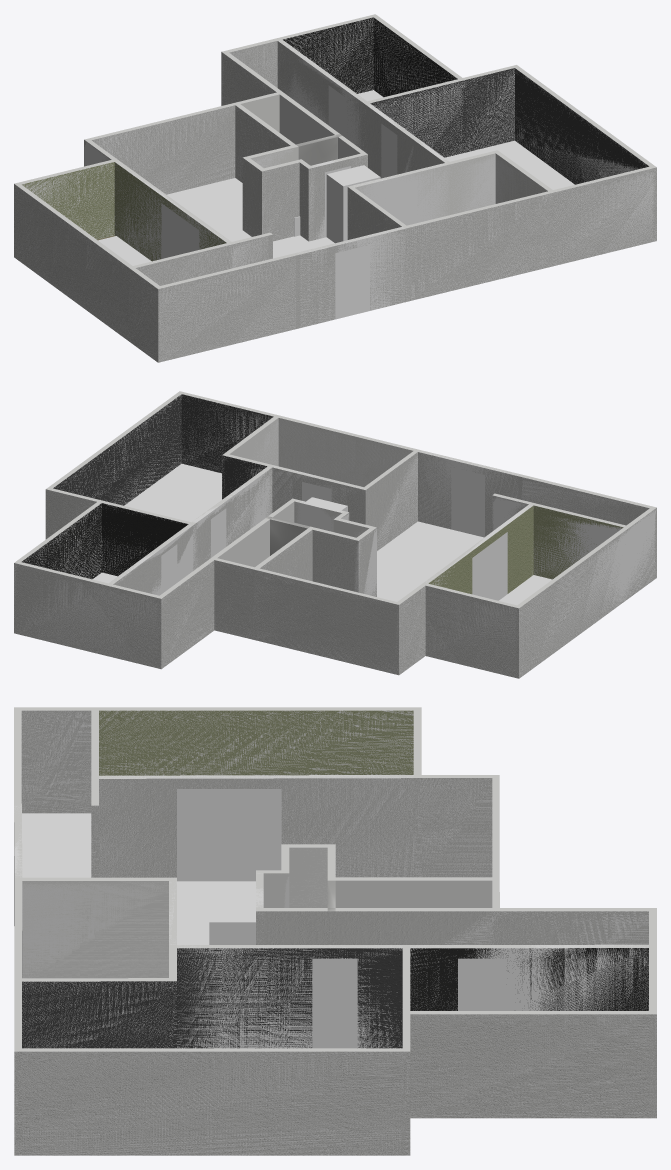
The model's file is House.v02.fbx.
3 views of the same model, one above another, from view 1: azimuth 30°, elevation 25°; view 2: azimuth 150°, elevation 25°; view 3: azimuth 270°, elevation 25° (orthographic). The views are drawn at different scales.
Parts seen in each view (by area): view 1: Plane.001, Outside, Living Room Walls, Garage Walls, Rest of walls, Kitchen walls, Office Walls, Cube.001, Bathroom walls, Cube.005, Closet walls; view 2: Plane.001, Outside, Living Room Walls, Garage Walls, Rest of walls, Cube.001, Office Walls, Bathroom walls, Kitchen walls, Closet walls; view 3: Plane.001, Outside, Living Room Walls, Garage Walls, Rest of walls, Kitchen walls, Bathroom walls, Office Walls, Cube.001, Closet walls, Cube.005.
Boxes of the visible parts, left/top/right/bottom form: Plane.001: left=14, top=18, right=656, bottom=362; Outside: left=14, top=52, right=656, bottom=362; Living Room Walls: left=92, top=41, right=444, bottom=285; Garage Walls: left=370, top=68, right=648, bottom=184; Rest of walls: left=14, top=14, right=656, bottom=288; Kitchen walls: left=22, top=162, right=226, bottom=261; Office Walls: left=283, top=17, right=457, bottom=96; Cube.001: left=98, top=90, right=574, bottom=265; Bathroom walls: left=355, top=153, right=547, bottom=220; Cube.005: left=326, top=165, right=380, bottom=243; Closet walls: left=251, top=137, right=360, bottom=167; Plane.001: left=14, top=394, right=656, bottom=678; Outside: left=14, top=489, right=656, bottom=678; Living Room Walls: left=113, top=452, right=649, bottom=596; Garage Walls: left=53, top=394, right=273, bottom=505; Rest of walls: left=14, top=391, right=656, bottom=608; Cube.001: left=92, top=463, right=552, bottom=605; Office Walls: left=22, top=503, right=188, bottom=579; Bathroom walls: left=229, top=418, right=412, bottom=486; Kitchen walls: left=428, top=505, right=623, bottom=594; Closet walls: left=273, top=501, right=368, bottom=537; Plane.001: left=14, top=710, right=656, bottom=1155; Outside: left=14, top=1014, right=648, bottom=1155; Living Room Walls: left=21, top=710, right=648, bottom=944; Garage Walls: left=22, top=948, right=402, bottom=1048; Rest of walls: left=14, top=707, right=656, bottom=1118; Kitchen walls: left=99, top=710, right=413, bottom=775; Bathroom walls: left=22, top=881, right=168, bottom=978; Office Walls: left=410, top=948, right=648, bottom=1010; Cube.001: left=22, top=813, right=255, bottom=944; Closet walls: left=263, top=847, right=327, bottom=907; Cube.005: left=209, top=896, right=255, bottom=944.
Size of the model in its own units: 2664 by 476 by 2104.
